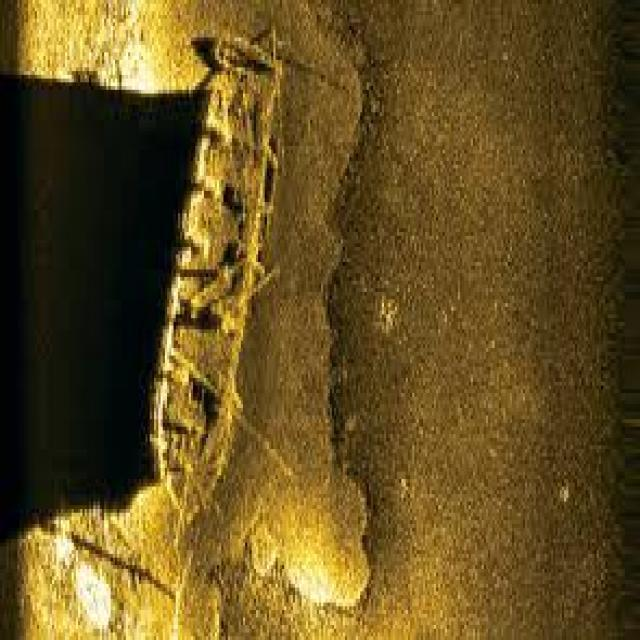shipwreck: (150, 26, 274, 517)
